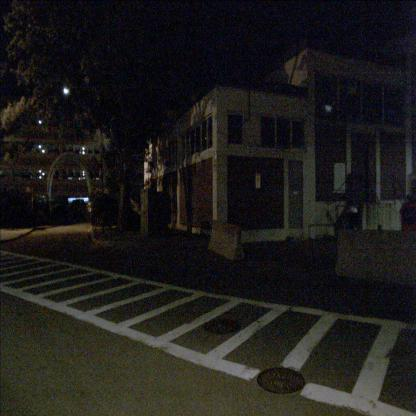movable_object-barrier: (335, 227, 415, 284), (208, 219, 245, 260)
